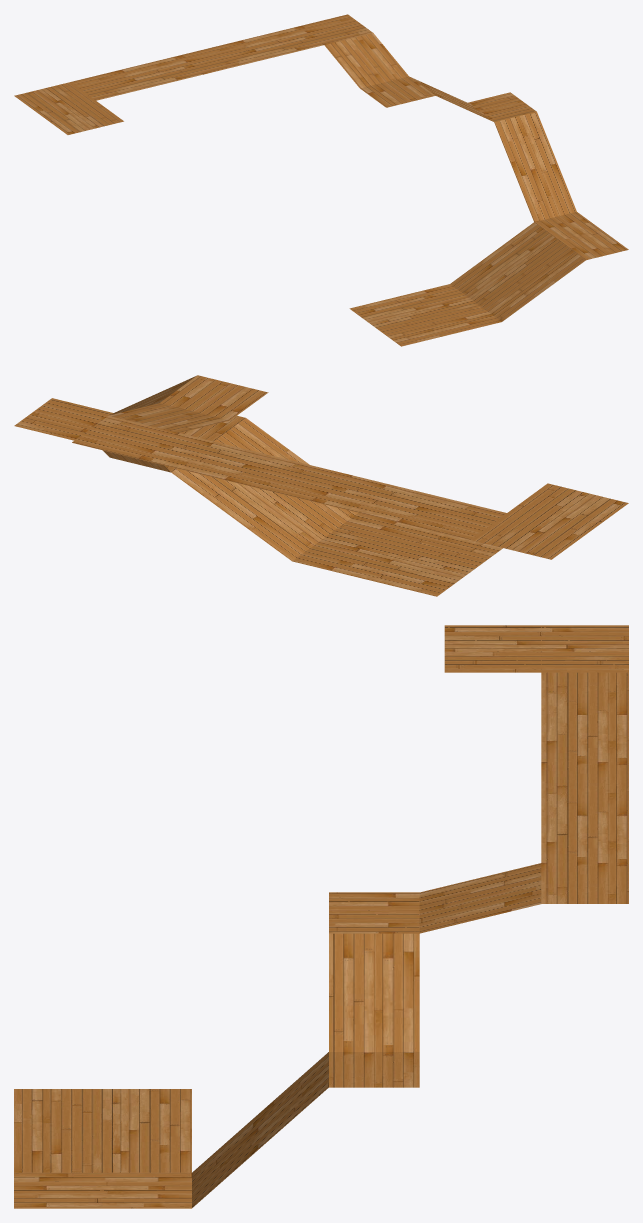
The model's file is SecretPassageFloor.fbx.
The picture shows the model from 3 angles, top to bottom: view 1: azimuth 30°, elevation 25°; view 2: azimuth 150°, elevation 25°; view 3: azimuth 270°, elevation 25°; orthographic projection. The views are drawn at different scales.
Visible parts, largest first — view 1: Plane.002; view 2: Plane.002; view 3: Plane.002.
Part boxes in pixels (x1,y1,x2,y2): Plane.002: [14, 14, 628, 346]; Plane.002: [14, 375, 628, 596]; Plane.002: [14, 625, 628, 1208].
Size of the model in its own units: 236 by 88.06 by 169.
